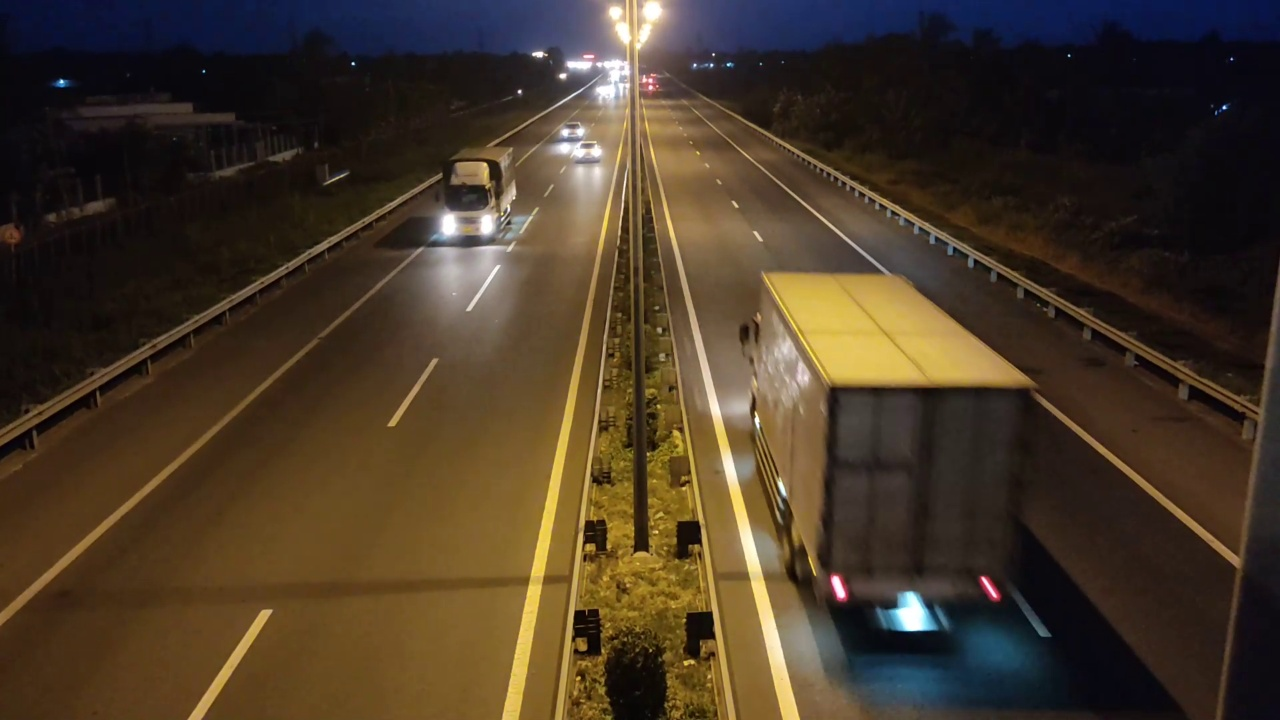car: (571, 141, 603, 163)
truck: (739, 269, 1047, 649), (436, 144, 518, 245)
